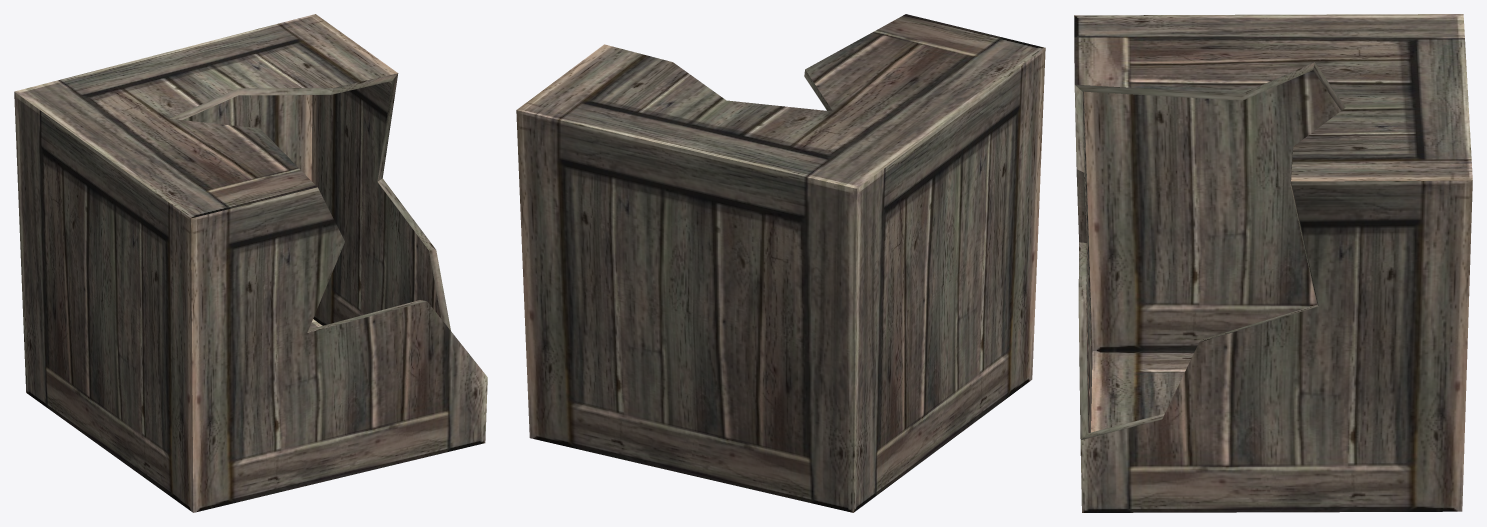
File: pir_m_prp_cnt_crateB_destroyed.fbx
3 renders of one model, left to right at view 1: azimuth 30°, elevation 25°; view 2: azimuth 150°, elevation 25°; view 3: azimuth 270°, elevation 25°, orthographic. The views are drawn at different scales.
Parts seen in each view (by area): view 1: lod_high; view 2: lod_high; view 3: lod_high.
Part boxes in pixels (box(x1,y1,x2,y2)): lod_high: box(14, 14, 487, 512); lod_high: box(516, 14, 1045, 512); lod_high: box(1074, 14, 1472, 512).
Bounding box in the file's own units: 392 × 366 × 394.
1 material, 1 textured.
